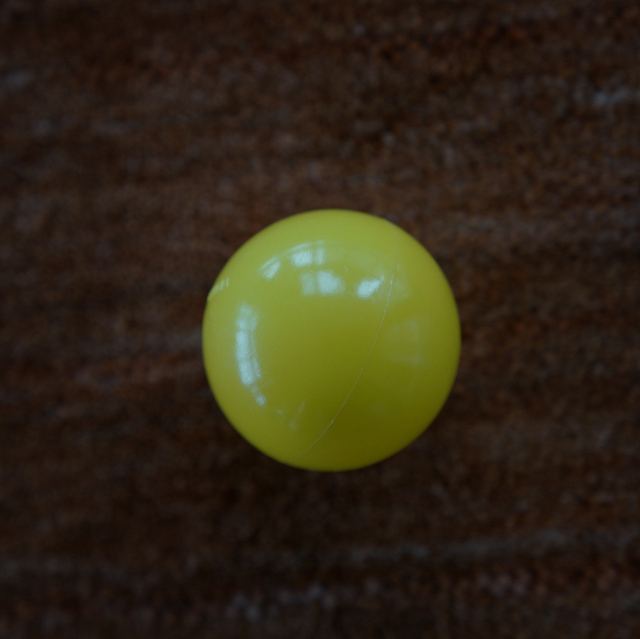Ball: (201, 209, 465, 468)
